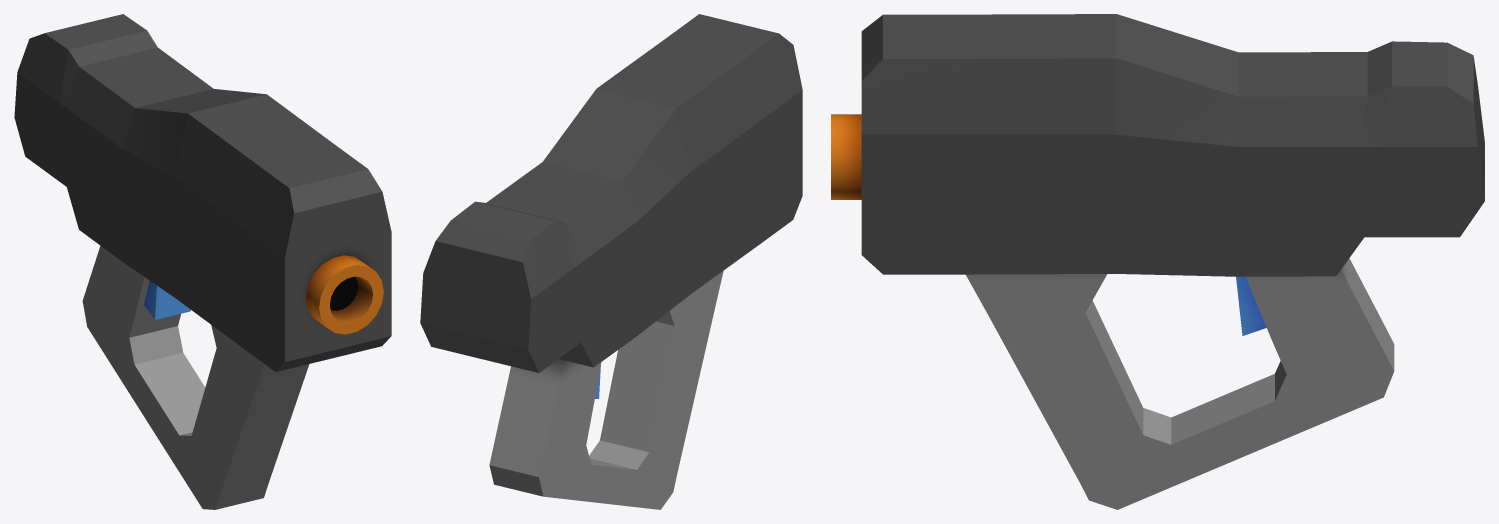
File: Gun_Basic.FBX
3 views of the same model, side by side, from view 1: azimuth 30°, elevation 25°; view 2: azimuth 150°, elevation 25°; view 3: azimuth 270°, elevation 25° (orthographic). The views are drawn at different scales.
Parts seen in each view (by area): view 1: Gun_Basic; view 2: Gun_Basic; view 3: Gun_Basic.
Part boxes in pixels (x1,y1,x2,y2): Gun_Basic: [14, 14, 391, 509]; Gun_Basic: [420, 14, 802, 509]; Gun_Basic: [831, 14, 1484, 509].
Bounding box in the file's own units: 2.59 × 9.27 × 11.94.
1 material, 1 textured.
